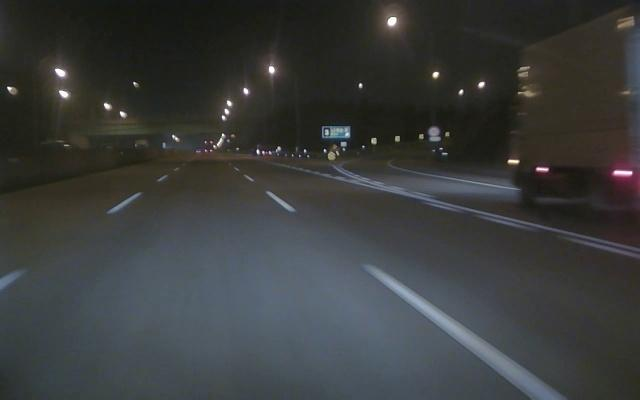lane: (260, 188, 568, 399), (332, 172, 640, 262), (0, 174, 170, 290)
